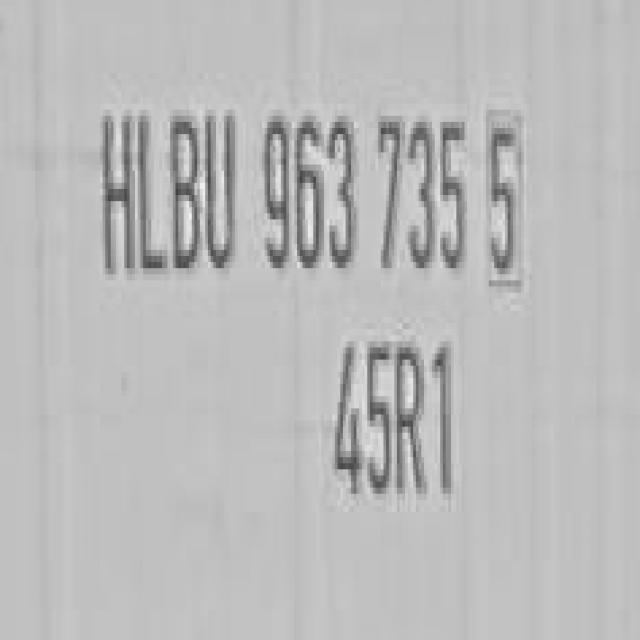dv: (480, 92, 542, 304)
owner: (85, 68, 242, 302)
serial: (254, 69, 472, 292)
size: (318, 318, 469, 529)
